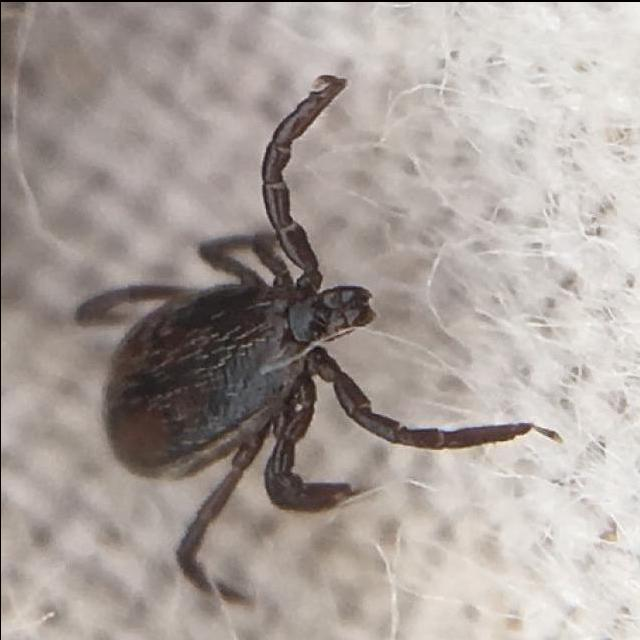Ixodes Ricinus-M: (76, 70, 560, 590)
